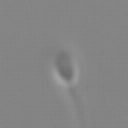normal: (56, 85, 93, 128)
